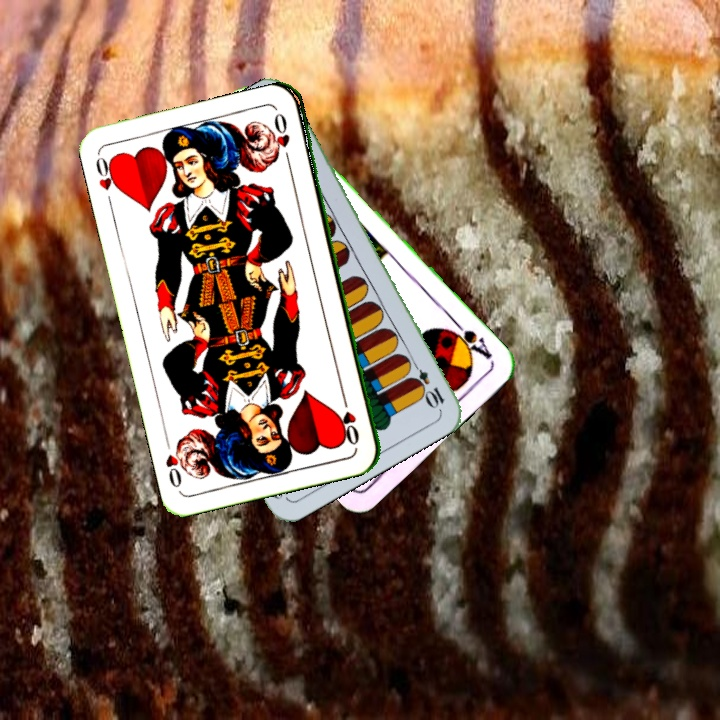E10: (406, 356, 447, 411)
HO: (91, 151, 123, 209), (337, 391, 362, 448)
SA: (442, 316, 495, 362)
